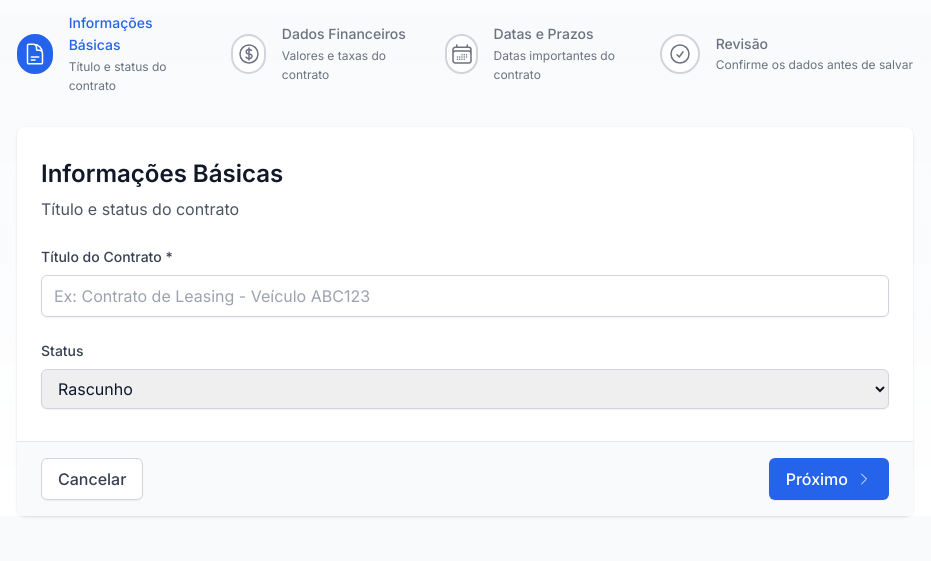
Test: ContractWizard › Form Validation › should show error for empty required fields
The width and height of the screenshot is (931, 561).
Try to go to next step without filling required fields
Click the button "Próximo": (829, 479) [769,458,889,500]
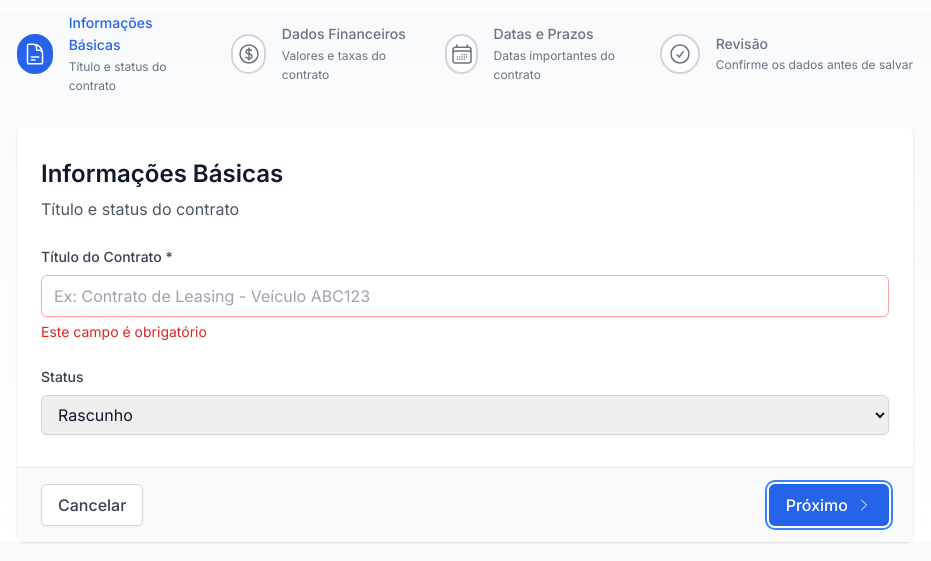
expect the text "Este campo é obrigatório" is shown: met, box [41,323,207,340]
